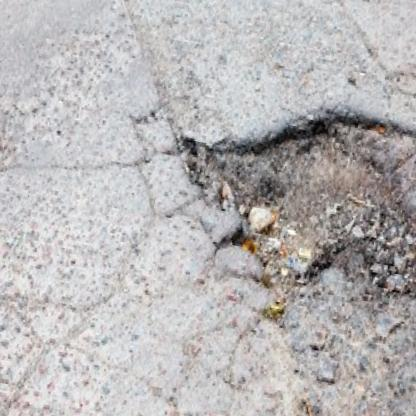pothole: (149, 79, 416, 337)
